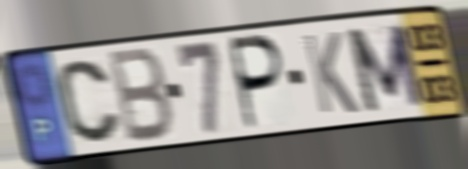7: (173, 40, 223, 138)
B: (106, 45, 176, 147)
C: (54, 57, 124, 146)
K: (299, 29, 362, 117)
M: (342, 21, 428, 116)
P: (229, 32, 288, 133)
